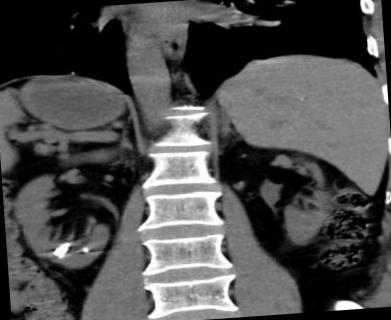Tas_Var: (51, 240, 70, 262), (81, 246, 88, 256)
